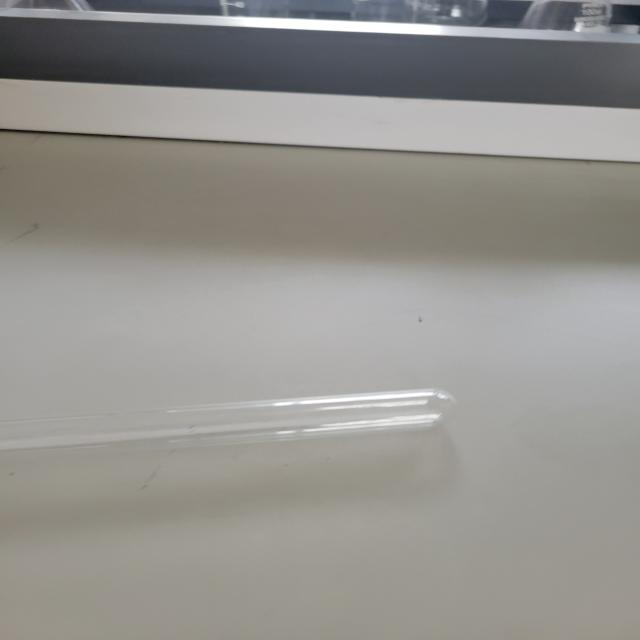Test_Tube: (0, 388, 480, 468)
